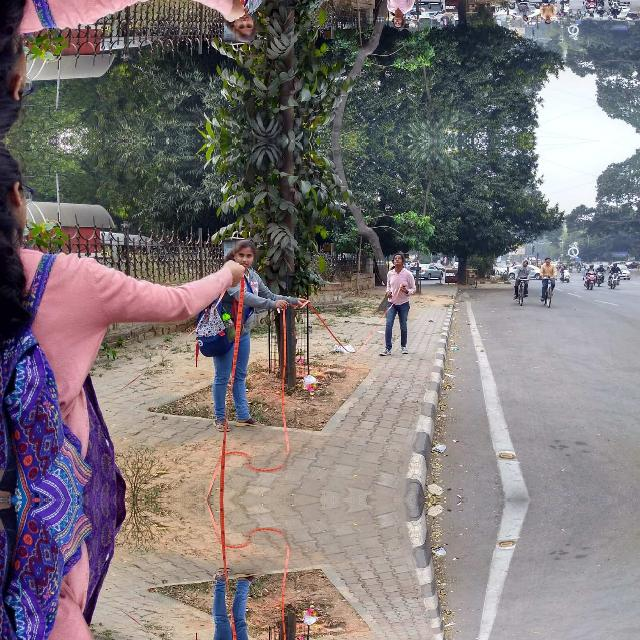obstacle: (426, 144, 496, 292), (426, 0, 496, 135)
person: (216, 240, 266, 352), (379, 245, 415, 347), (216, 0, 266, 40), (379, 0, 415, 35), (541, 258, 559, 302), (514, 255, 536, 273), (541, 0, 559, 22), (514, 7, 536, 25)
